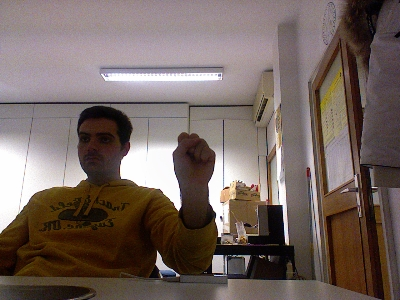石头: (172, 130, 215, 186)
